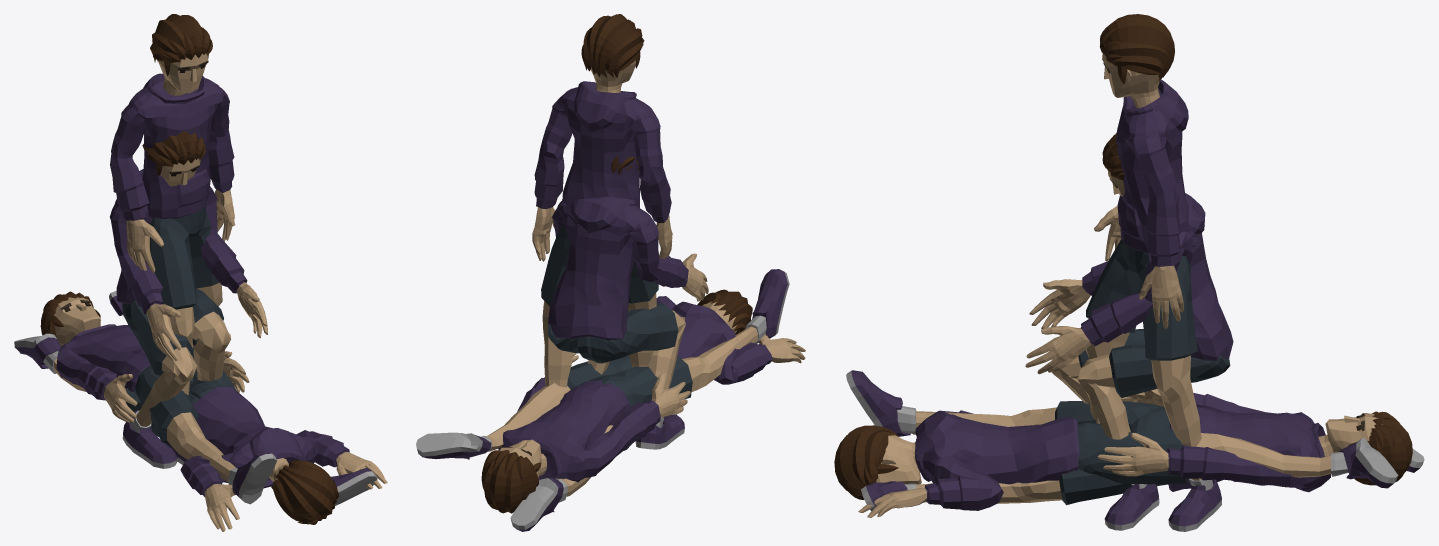
File: human_field.glb
3 renders of one model, left to right at view 1: azimuth 30°, elevation 25°; view 2: azimuth 150°, elevation 25°; view 3: azimuth 270°, elevation 25°, orthographic. The views are drawn at different scales.
Visible parts, largest first — view 1: standing, sitting, prone, prone_back; view 2: standing, sitting, prone_back, prone; view 3: standing, prone, prone_back, sitting.
Part boxes in pixels (bbox=[...]): standing: bbox=[110, 14, 235, 464]; sitting: bbox=[110, 130, 267, 468]; prone: bbox=[14, 291, 387, 531]; prone_back: bbox=[40, 291, 377, 505]; standing: bbox=[532, 14, 676, 417]; sitting: bbox=[548, 156, 708, 449]; prone_back: bbox=[481, 269, 789, 513]; prone: bbox=[416, 289, 805, 531]; standing: bbox=[1085, 14, 1221, 531]; prone: bbox=[834, 410, 1424, 517]; prone_back: bbox=[846, 370, 1412, 513]; sitting: bbox=[1025, 133, 1233, 530].
Bounding box in the file's own units: 0.7614 × 1.83 × 2.05.
